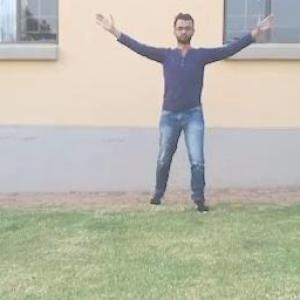takeoff: (95, 2, 282, 214)
